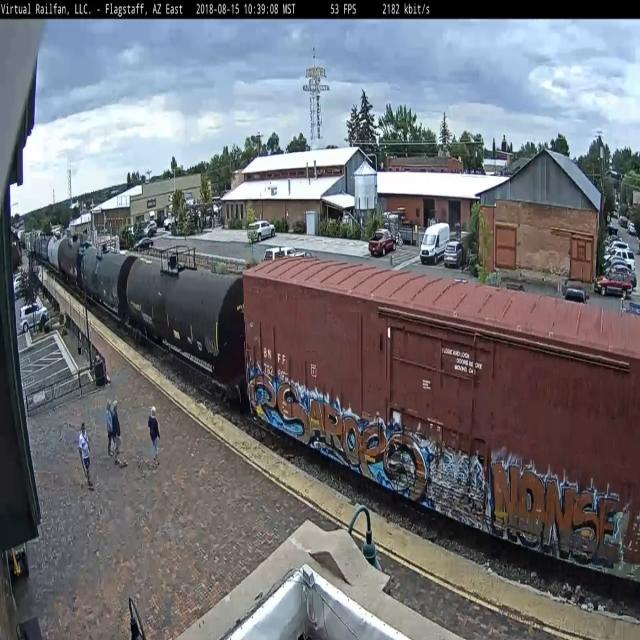boxcar: (236, 239, 640, 600)
tank: (121, 243, 248, 419)
